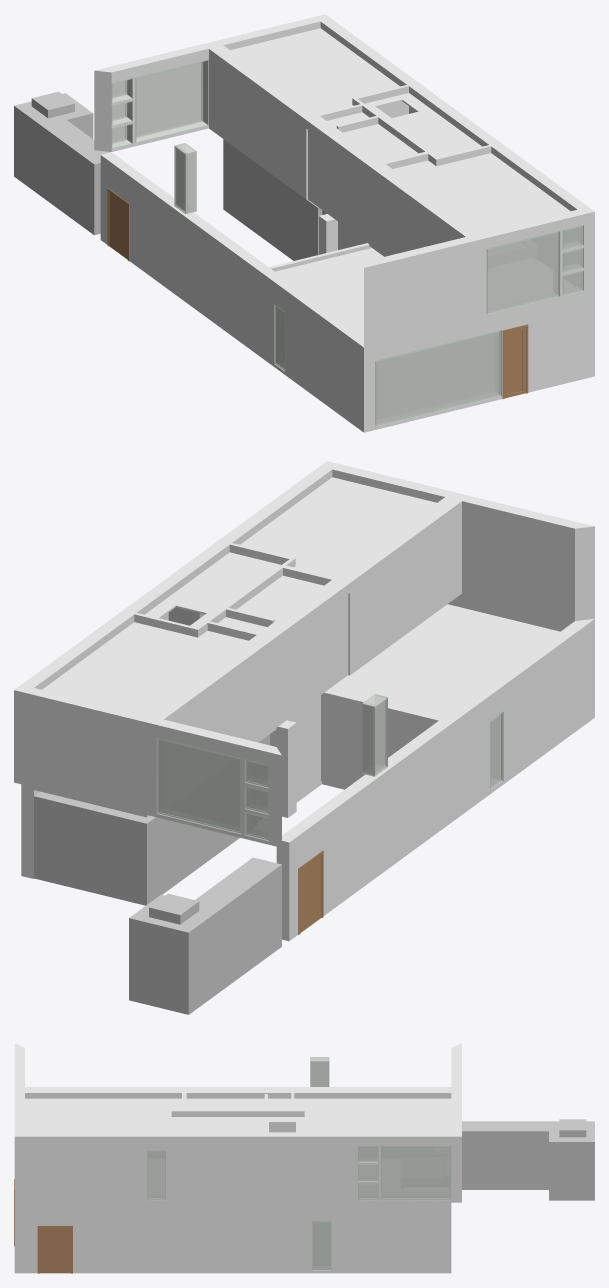
The model's file is 2b30809a-8cc4-4596-9693-59621d129eca.glb.
3 views of the same model, one above another, from view 1: azimuth 30°, elevation 25°; view 2: azimuth 150°, elevation 25°; view 3: azimuth 270°, elevation 25° (orthographic). The views are drawn at different scales.
Parts seen in each view (by area): view 1: product-9808fd7f-dc48-478e-9217-628e833d7af9-body, product-9808fd7f-dc48-478e-9217-628e833d4938-body, product-4dcc25a7-ed55-43c8-8857-f7d97e8de194-body (×2), product-9808fd7f-dc48-478e-9217-628e833d5611-body, product-9808fd7f-dc48-478e-9217-628e833d7d42-body, product-6b61ce71-1a7a-473c-8f87-4262e0bdb2de-body, product-e586c31c-dfb6-463e-aee7-a2dffc985144-body, product-e586c31c-dfb6-463e-aee7-a2dffc985170-body, product-9808fd7f-dc48-478e-9217-628e833d568d-body, product-6b61ce71-1a7a-473c-8f87-4262e0bdcfa0-body, product-6b61ce71-1a7a-473c-8f87-4262e0bdc858-body, product-9808fd7f-dc48-478e-9217-628e833d56c9-body (+12 smaller); view 2: product-9808fd7f-dc48-478e-9217-628e833d7af9-body, product-4dcc25a7-ed55-43c8-8857-f7d97e8de194-body (×2), product-9808fd7f-dc48-478e-9217-628e833d4938-body, product-9808fd7f-dc48-478e-9217-628e833d568d-body, product-9808fd7f-dc48-478e-9217-628e833d5611-body, product-e586c31c-dfb6-463e-aee7-a2dffc985031-body, product-e586c31c-dfb6-463e-aee7-a2dffc985170-body, product-e586c31c-dfb6-463e-aee7-a2dffc985144-body, product-6b61ce71-1a7a-473c-8f87-4262e0bdc858-body, product-9808fd7f-dc48-478e-9217-628e833d56c9-body, product-2c391822-07f8-4a22-86a8-a1e57412d386-body, product-e586c31c-dfb6-463e-aee7-a2dffc985156-body (+9 smaller); view 3: product-9808fd7f-dc48-478e-9217-628e833d7d12-body, product-9808fd7f-dc48-478e-9217-628e833d56c9-body, product-4dcc25a7-ed55-43c8-8857-f7d97e8de194-body, product-e586c31c-dfb6-463e-aee7-a2dffc985144-body, product-e586c31c-dfb6-463e-aee7-a2dffc985170-body, product-9808fd7f-dc48-478e-9217-628e833d4938-body, product-6f010293-ddb7-4fe4-8ffd-c144d8444cde-body, product-e586c31c-dfb6-463e-aee7-a2dffc985156-body, product-6b61ce71-1a7a-473c-8f87-4262e0bdb41a-body, product-e586c31c-dfb6-463e-aee7-a2dffc98514e-body, product-9808fd7f-dc48-478e-9217-628e833d5275-body, product-6b61ce71-1a7a-473c-8f87-4262e0bdb57b-body (+7 smaller).
Part boxes in pixels (<box>): product-9808fd7f-dc48-478e-9217-628e833d7af9-body: <box>100,152,363,427</box>; product-9808fd7f-dc48-478e-9217-628e833d4938-body: <box>209,45,479,256</box>; product-4dcc25a7-ed55-43c8-8857-f7d97e8de194-body (×2): <box>14,91,322,260</box>; product-9808fd7f-dc48-478e-9217-628e833d5611-body: <box>364,209,594,347</box>; product-9808fd7f-dc48-478e-9217-628e833d7d42-body: <box>357,294,583,432</box>; product-6b61ce71-1a7a-473c-8f87-4262e0bdb2de-body: <box>375,330,501,427</box>; product-e586c31c-dfb6-463e-aee7-a2dffc985144-body: <box>230,28,399,114</box>; product-e586c31c-dfb6-463e-aee7-a2dffc985170-body: <box>393,153,570,233</box>; product-9808fd7f-dc48-478e-9217-628e833d568d-body: <box>94,14,324,151</box>; product-6b61ce71-1a7a-473c-8f87-4262e0bdcfa0-body: <box>486,231,560,314</box>; product-6b61ce71-1a7a-473c-8f87-4262e0bdc858-body: <box>135,59,208,143</box>; product-9808fd7f-dc48-478e-9217-628e833d56c9-body: <box>320,14,594,211</box>; product-9808fd7f-dc48-478e-9217-628e833d7af9-body: <box>276,621,587,941</box>; product-4dcc25a7-ed55-43c8-8857-f7d97e8de194-body (×2): <box>34,791,281,1014</box>; product-9808fd7f-dc48-478e-9217-628e833d4938-body: <box>147,497,461,742</box>; product-9808fd7f-dc48-478e-9217-628e833d568d-body: <box>14,688,281,847</box>; product-9808fd7f-dc48-478e-9217-628e833d5611-body: <box>327,461,594,620</box>; product-e586c31c-dfb6-463e-aee7-a2dffc985031-body: <box>327,604,559,718</box>; product-e586c31c-dfb6-463e-aee7-a2dffc985170-body: <box>240,477,436,577</box>; product-e586c31c-dfb6-463e-aee7-a2dffc985144-body: <box>42,622,248,715</box>; product-6b61ce71-1a7a-473c-8f87-4262e0bdc858-body: <box>156,737,241,834</box>; product-9808fd7f-dc48-478e-9217-628e833d56c9-body: <box>14,461,332,689</box>; product-2c391822-07f8-4a22-86a8-a1e57412d386-body: <box>321,690,440,787</box>; product-e586c31c-dfb6-463e-aee7-a2dffc985156-body: <box>145,552,280,627</box>; product-9808fd7f-dc48-478e-9217-628e833d7d12-body: <box>14,1202,451,1273</box>; product-9808fd7f-dc48-478e-9217-628e833d56c9-body: <box>14,1132,461,1202</box>; product-4dcc25a7-ed55-43c8-8857-f7d97e8de194-body: <box>462,1119,594,1200</box>; product-e586c31c-dfb6-463e-aee7-a2dffc985144-body: <box>294,1098,451,1132</box>; product-e586c31c-dfb6-463e-aee7-a2dffc985170-body: <box>25,1098,181,1132</box>; product-9808fd7f-dc48-478e-9217-628e833d4938-body: <box>25,1087,451,1098</box>; product-6f010293-ddb7-4fe4-8ffd-c144d8444cde-body: <box>381,1145,451,1200</box>; product-e586c31c-dfb6-463e-aee7-a2dffc985156-body: <box>171,1117,304,1132</box>; product-6b61ce71-1a7a-473c-8f87-4262e0bdb41a-body: <box>37,1226,72,1273</box>; product-e586c31c-dfb6-463e-aee7-a2dffc98514e-body: <box>186,1098,291,1109</box>; product-9808fd7f-dc48-478e-9217-628e833d5275-body: <box>171,1110,307,1132</box>; product-6b61ce71-1a7a-473c-8f87-4262e0bdb57b-body: <box>312,1221,331,1270</box>.
Size of the model in its own units: 8.85 by 6.13 by 23.13.
